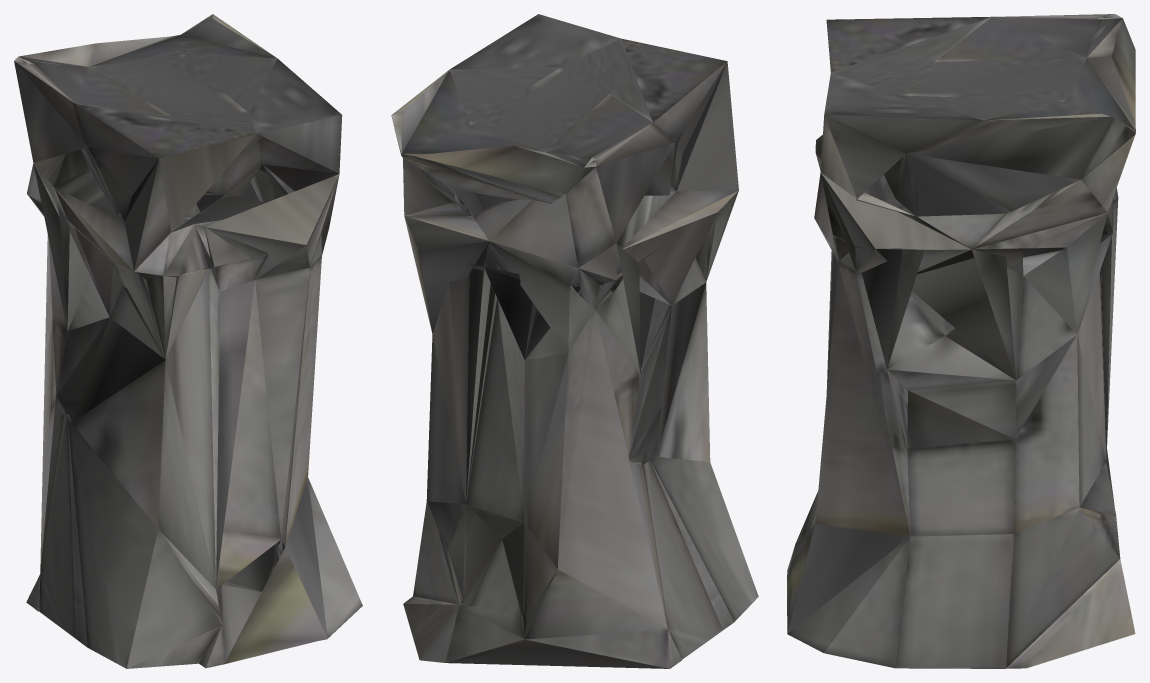
Rendered from imperial_city_wall_tower_lod2.glb.
3 renders of one model, left to right at view 1: azimuth 30°, elevation 25°; view 2: azimuth 150°, elevation 25°; view 3: azimuth 270°, elevation 25°, orthographic. The views are drawn at different scales.
Parts seen in each view (by area): view 1: mesh_node; view 2: mesh_node; view 3: mesh_node.
Boxes of the visible parts, x1,y1,x2,y2 form: mesh_node: (14, 14, 362, 668); mesh_node: (391, 14, 758, 668); mesh_node: (787, 14, 1135, 668).
Size of the model in its own units: 6.46 by 12.19 by 7.17.
Materials: 1 (1 with a texture image).
